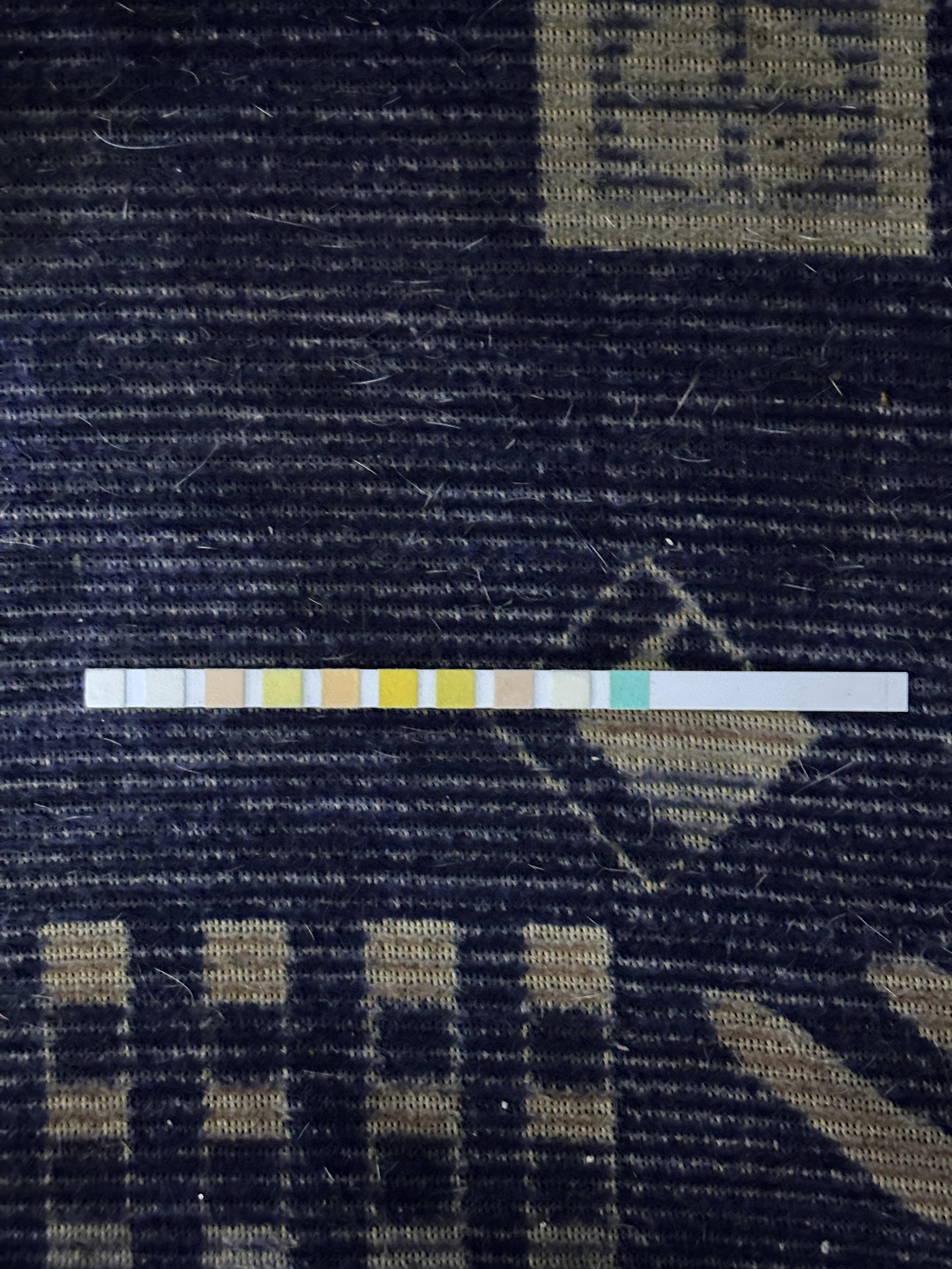Bilirubin: (552, 671, 589, 707)
Blood: (380, 670, 416, 707)
Glucose: (611, 671, 648, 709)
Ketone: (495, 670, 533, 708)
Leukocytes: (87, 670, 125, 706)
Nitrite: (146, 669, 184, 707)
Protein: (264, 670, 301, 707)
SpGravity: (437, 670, 474, 708)
Urobilinogen: (206, 670, 244, 706)
pH: (322, 671, 358, 706)
strip: (84, 669, 911, 712)
